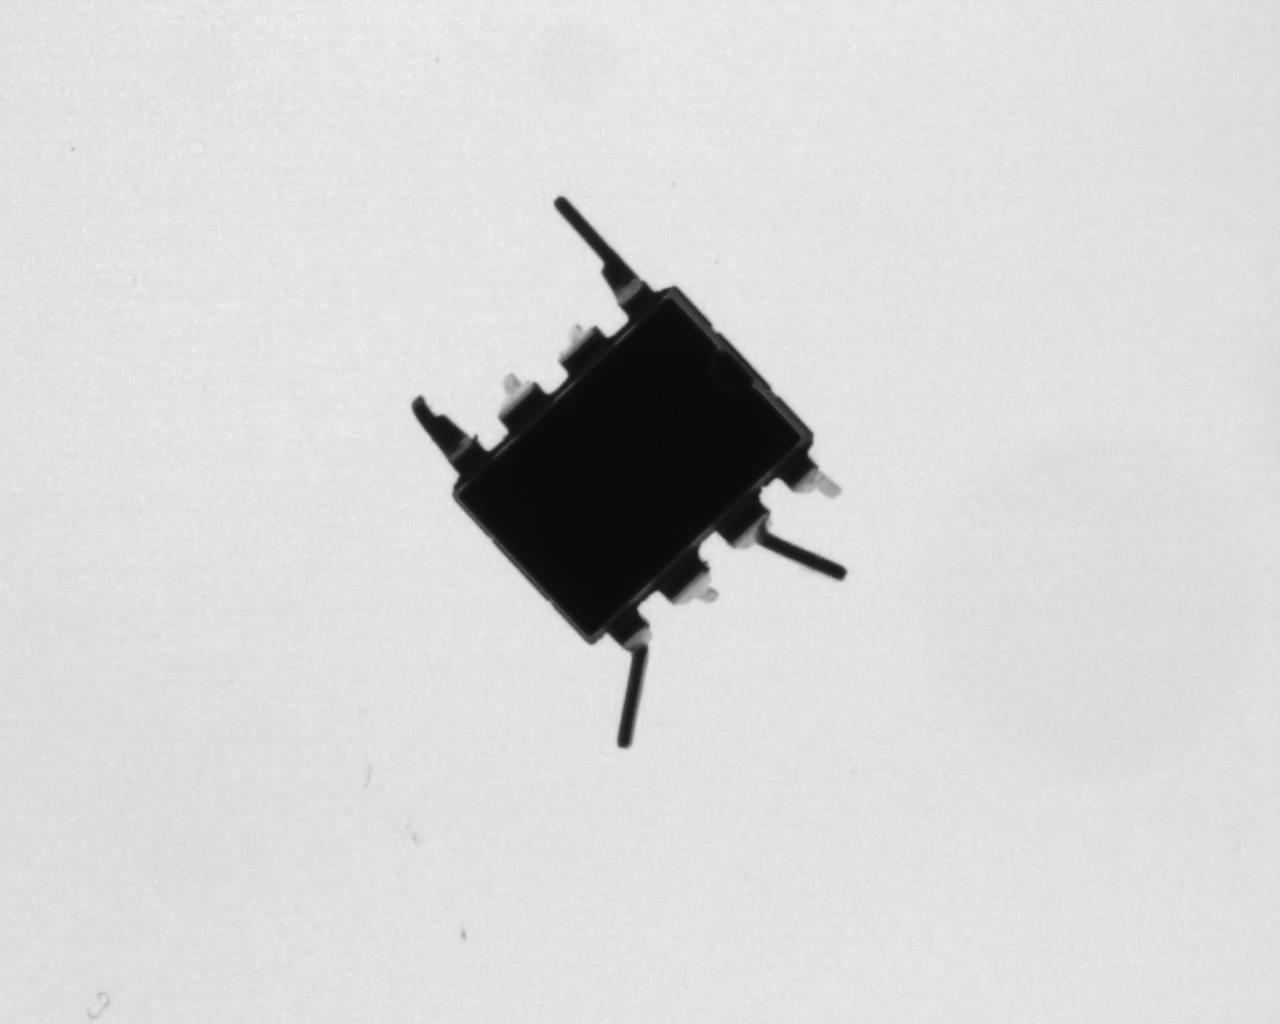Leg: (554, 194, 656, 315), (726, 498, 850, 582), (607, 604, 654, 749), (412, 396, 492, 478), (495, 371, 549, 433), (655, 554, 718, 604), (777, 453, 844, 498), (557, 323, 610, 376)
